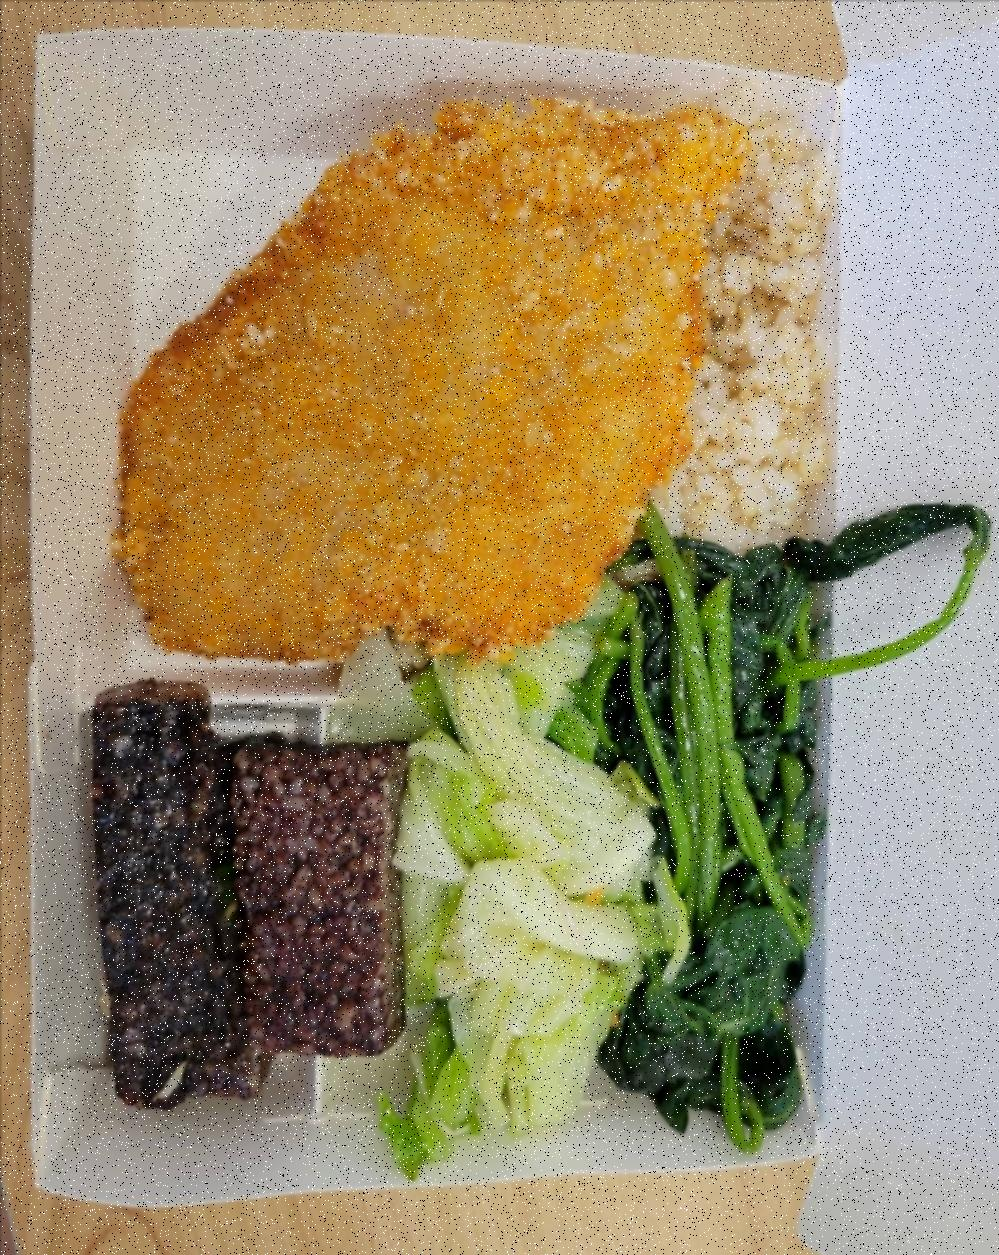box: (8, 10, 875, 1207)
brown rice: (643, 101, 836, 555)
chicken steak: (113, 93, 745, 666)
side dish: (70, 661, 416, 1123), (619, 511, 848, 1138), (402, 630, 651, 1161)
